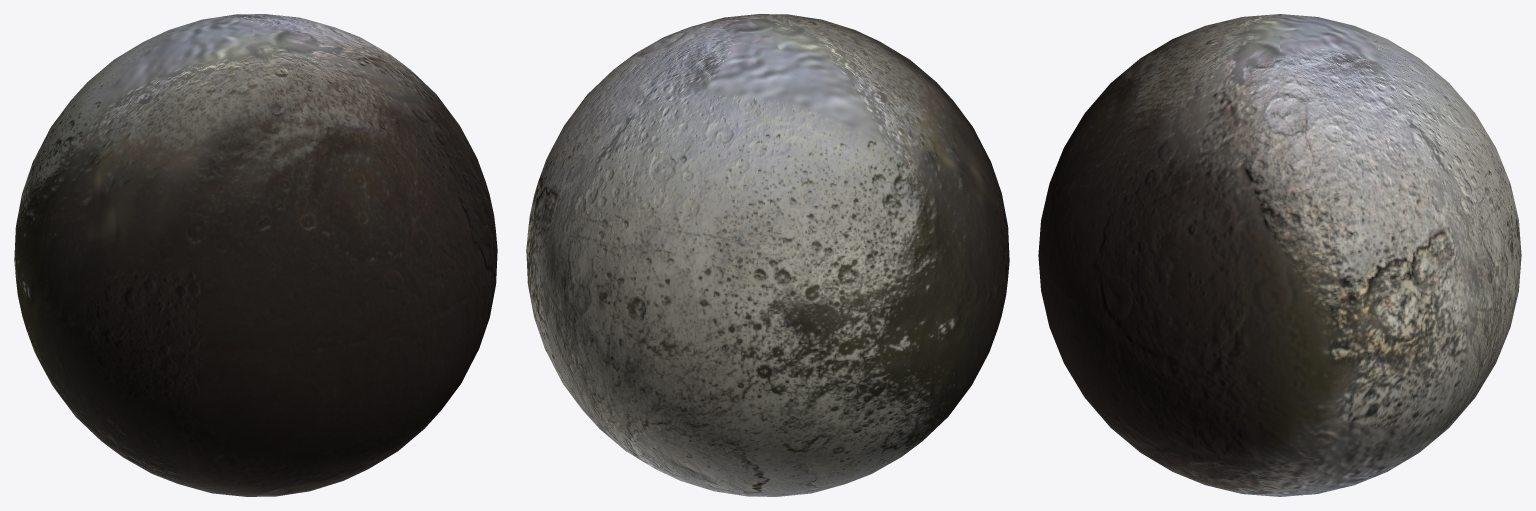
The model's file is iapetus.FBX.
The picture shows the model from 3 angles, left to right: view 1: azimuth 30°, elevation 25°; view 2: azimuth 150°, elevation 25°; view 3: azimuth 270°, elevation 25°; orthographic projection.
Visible parts, largest first — view 1: Iapetus; view 2: Iapetus; view 3: Iapetus.
Part boxes in pixels (x1=…): Iapetus: x1=14, y1=14, x2=497, y2=496; Iapetus: x1=526, y1=14, x2=1009, y2=496; Iapetus: x1=1038, y1=14, x2=1521, y2=496.
Bounding box in the file's own units: 86.3 × 86.3 × 86.3.
Materials: 1 (1 with a texture image).
